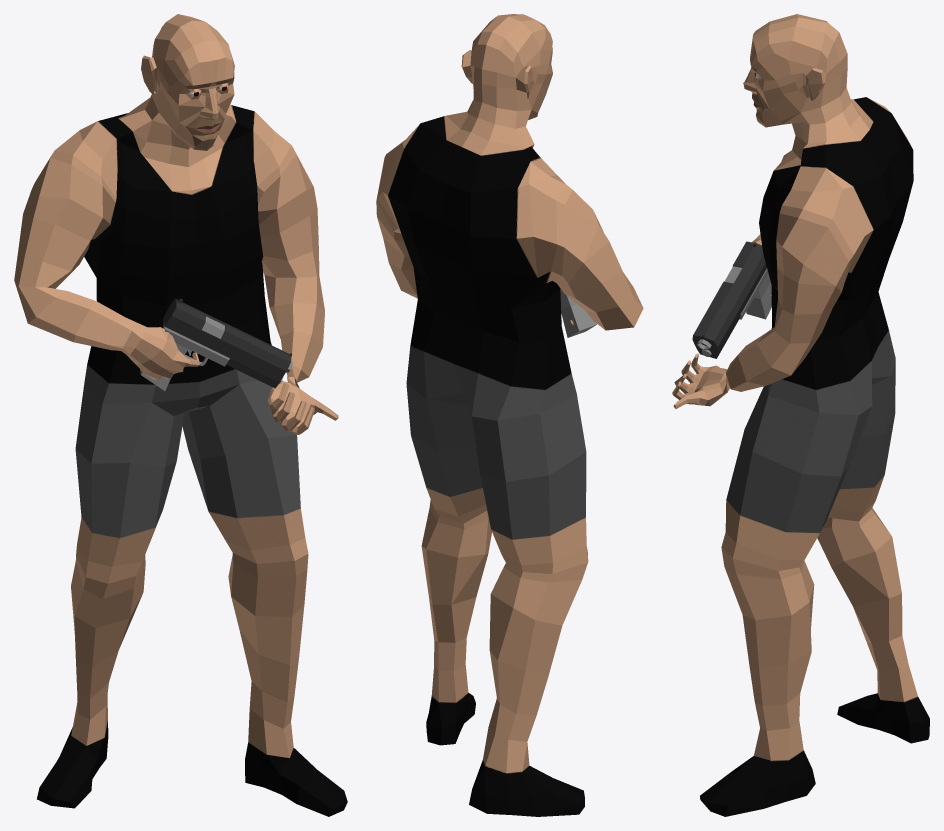
The model's file is PlayerIdle(62).obj.
3 renders of one model, left to right at view 1: azimuth 30°, elevation 25°; view 2: azimuth 150°, elevation 25°; view 3: azimuth 270°, elevation 25°, orthographic. The views are drawn at different scales.
Visible parts, largest first — view 1: Plane002, Box003; view 2: Plane002, Box003; view 3: Plane002, Box003.
Part boxes in pixels (left/top/right/bottom): Plane002: left=14, top=14, right=347, bottom=816; Box003: left=140, top=298, right=292, bottom=390; Plane002: left=376, top=14, right=643, bottom=816; Box003: left=560, top=289, right=597, bottom=337; Plane002: left=672, top=14, right=929, bottom=816; Box003: left=692, top=241, right=771, bottom=358.
Bounding box in the file's own units: 670 × 1800 × 564.
